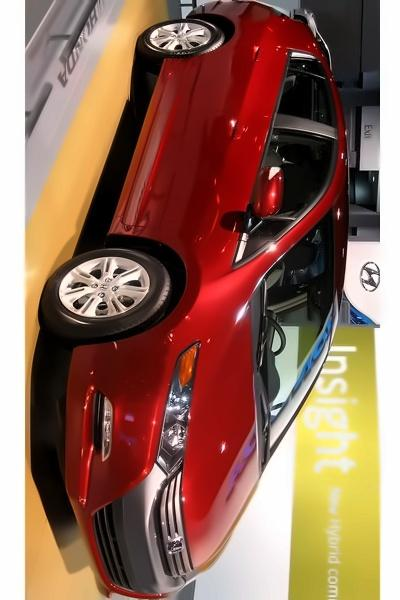Car hood: (177, 277, 267, 578)
Driver-s door - -F-R-: (123, 116, 343, 217)
Fender - -F-R-: (102, 219, 267, 341)
Fender - -R-R-: (216, 7, 285, 53)
Front bumper: (50, 313, 169, 600)
Headlight - -R-: (153, 337, 206, 482)
Passenger-s door - -R-R-: (152, 37, 340, 115)
Rear bumper: (178, 0, 265, 32)
Side bumper - -R-: (98, 48, 182, 245)
Side mirror - -R-: (243, 156, 289, 226)
